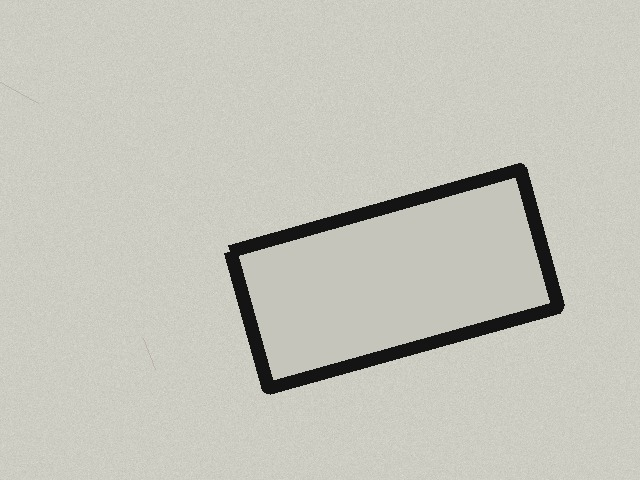parking_area: (230, 169, 558, 388)
